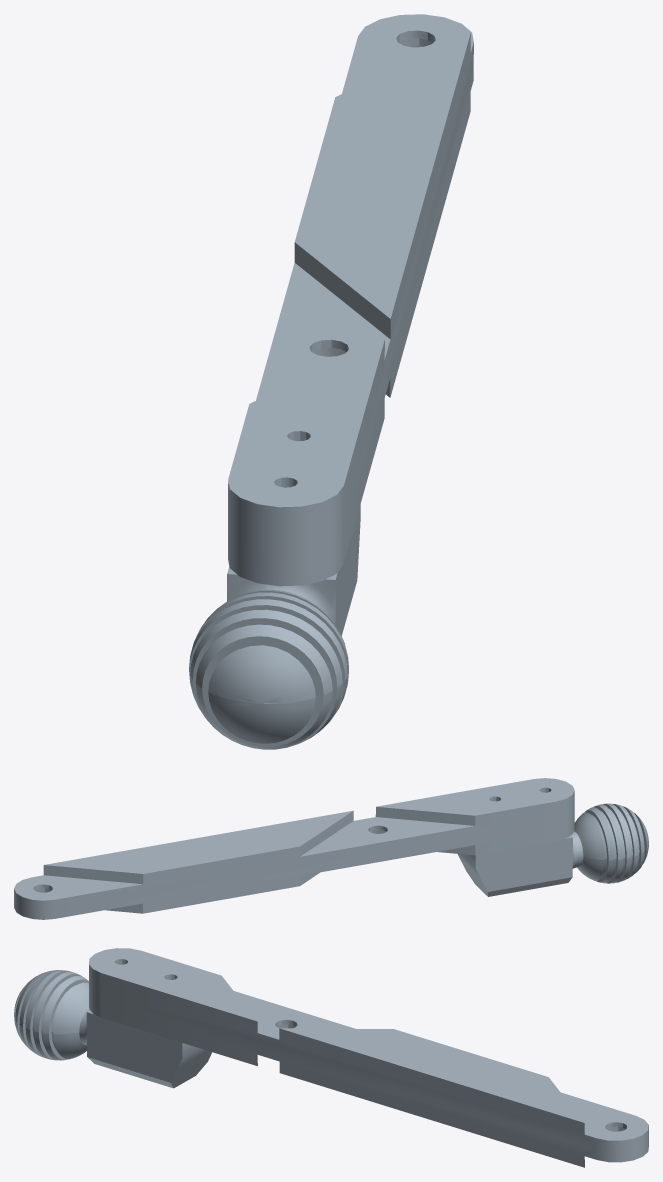
3 renders of one model, top to bottom at view 1: azimuth 30°, elevation 25°; view 2: azimuth 150°, elevation 25°; view 3: azimuth 270°, elevation 25°, orthographic. The views are drawn at different scales.
Visible parts, largest first — view 1: tmp_export_fr_link_2; view 2: tmp_export_fr_link_2; view 3: tmp_export_fr_link_2.
Part boxes in pixels (bbox=[...]): tmp_export_fr_link_2: bbox=[189, 14, 473, 749]; tmp_export_fr_link_2: bbox=[14, 778, 648, 919]; tmp_export_fr_link_2: bbox=[14, 948, 648, 1167].
Bounding box in the file's own units: 0.1202 × 0.1541 × 0.0314.
